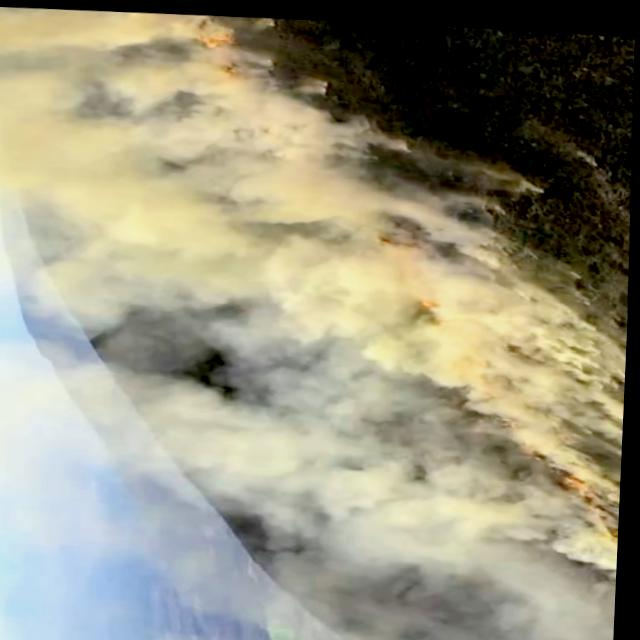smoke: (18, 336, 510, 559), (50, 159, 255, 308), (0, 80, 264, 186), (361, 285, 557, 381), (0, 2, 165, 94), (283, 229, 413, 341)
